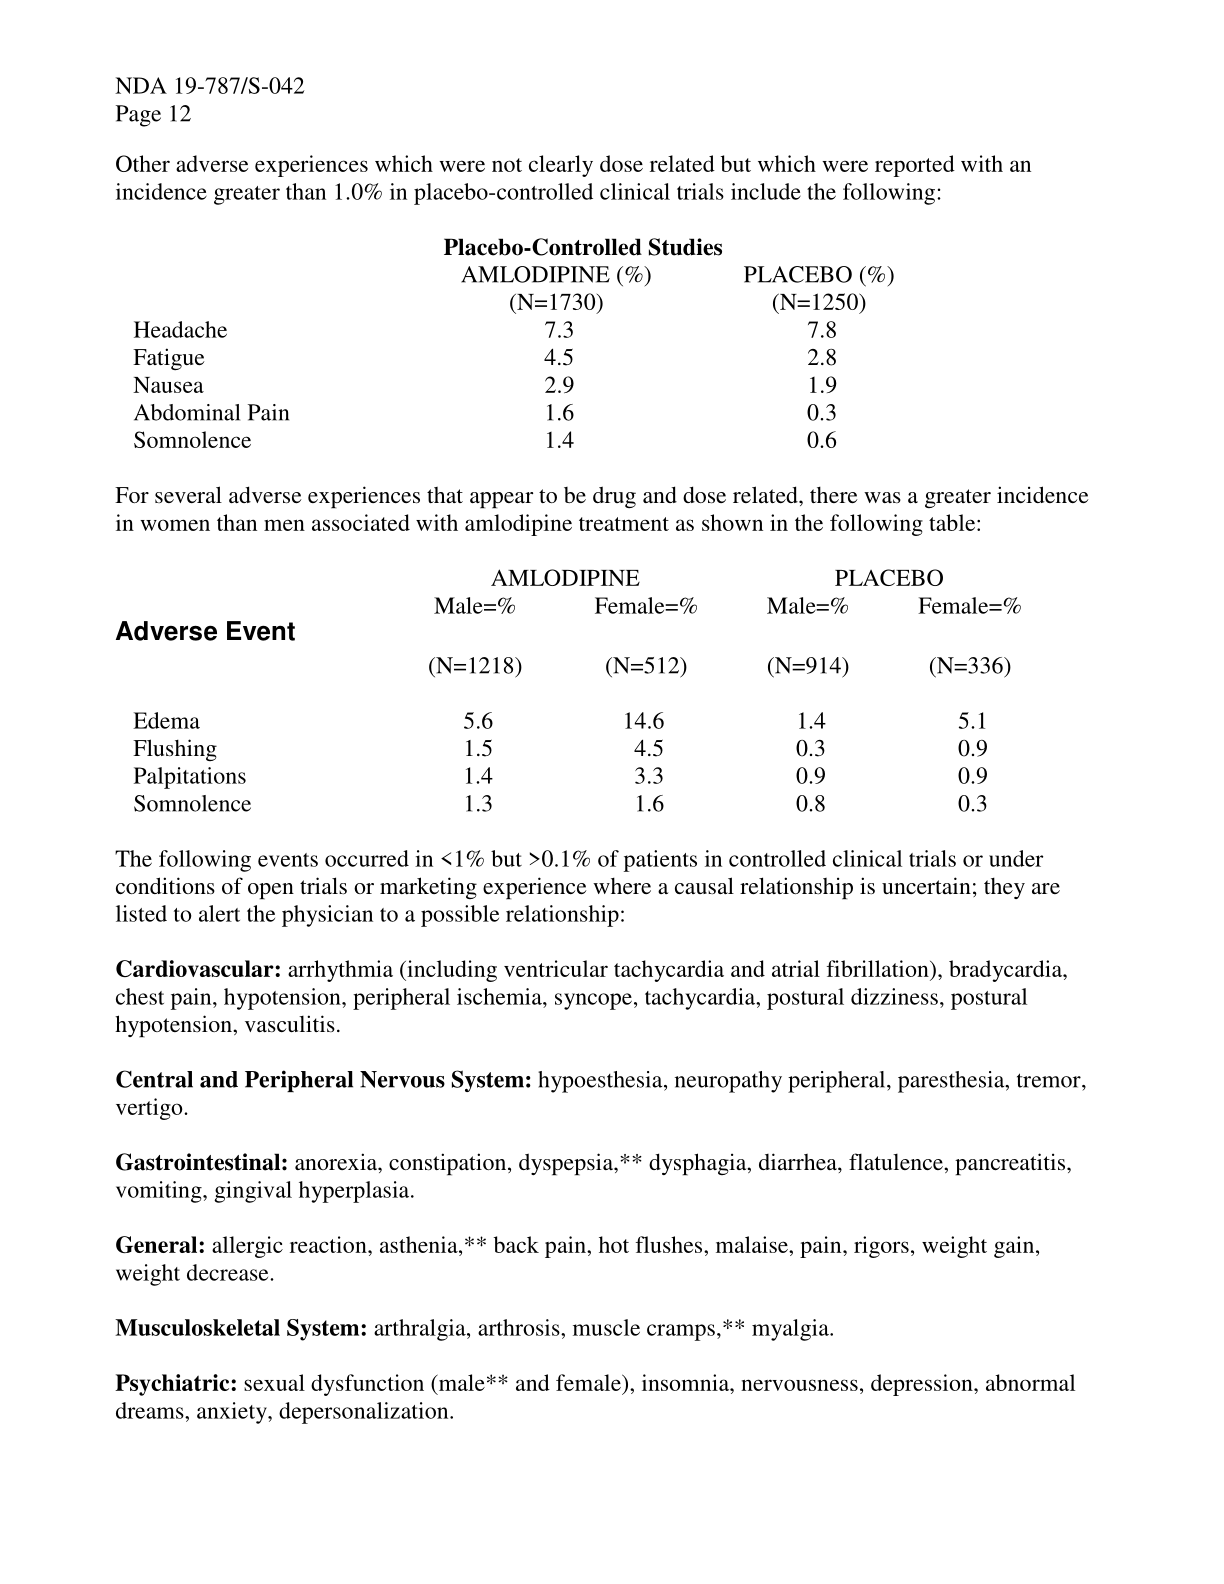nolines: (116, 563, 1023, 816), (131, 237, 897, 453)
